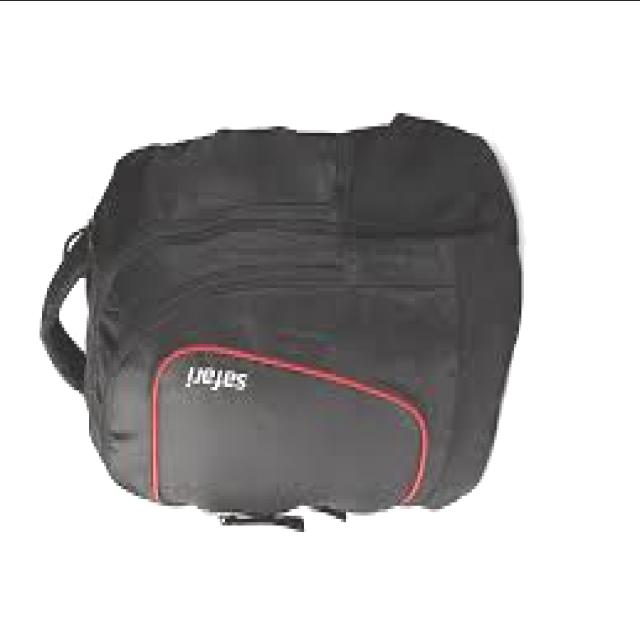backpack: (38, 114, 522, 536)
